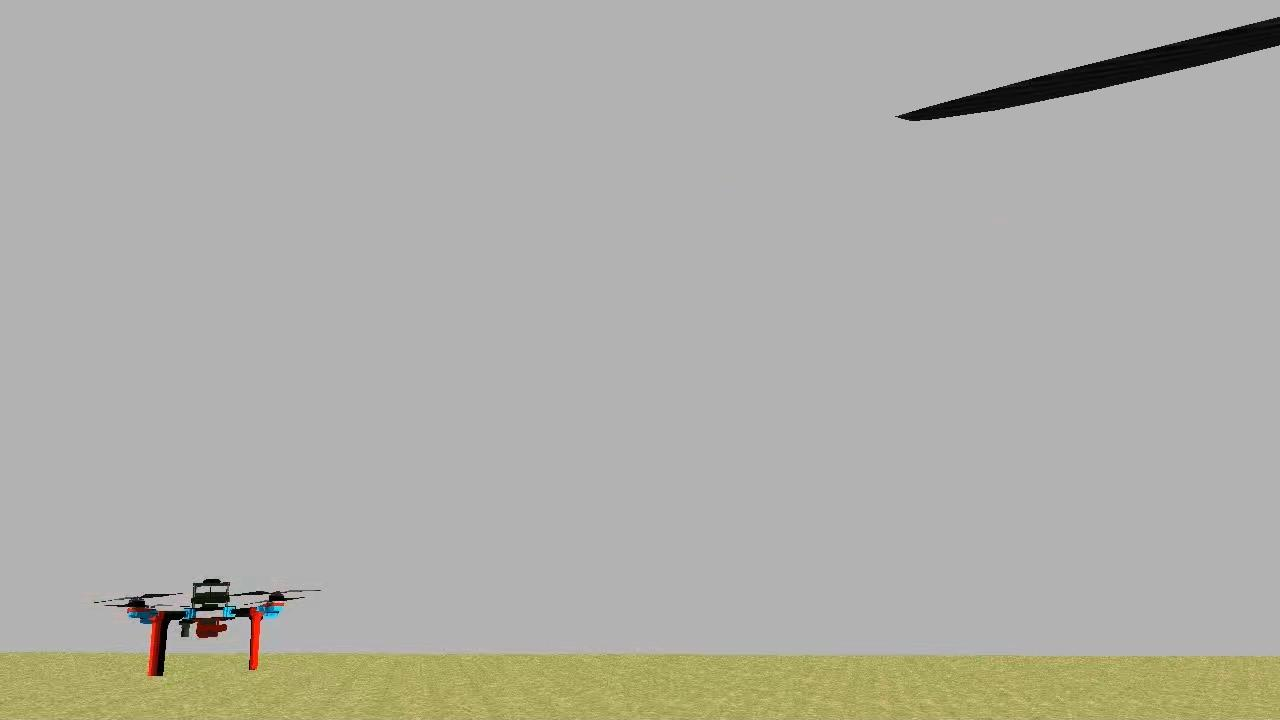UAV: (113, 562, 307, 682)
